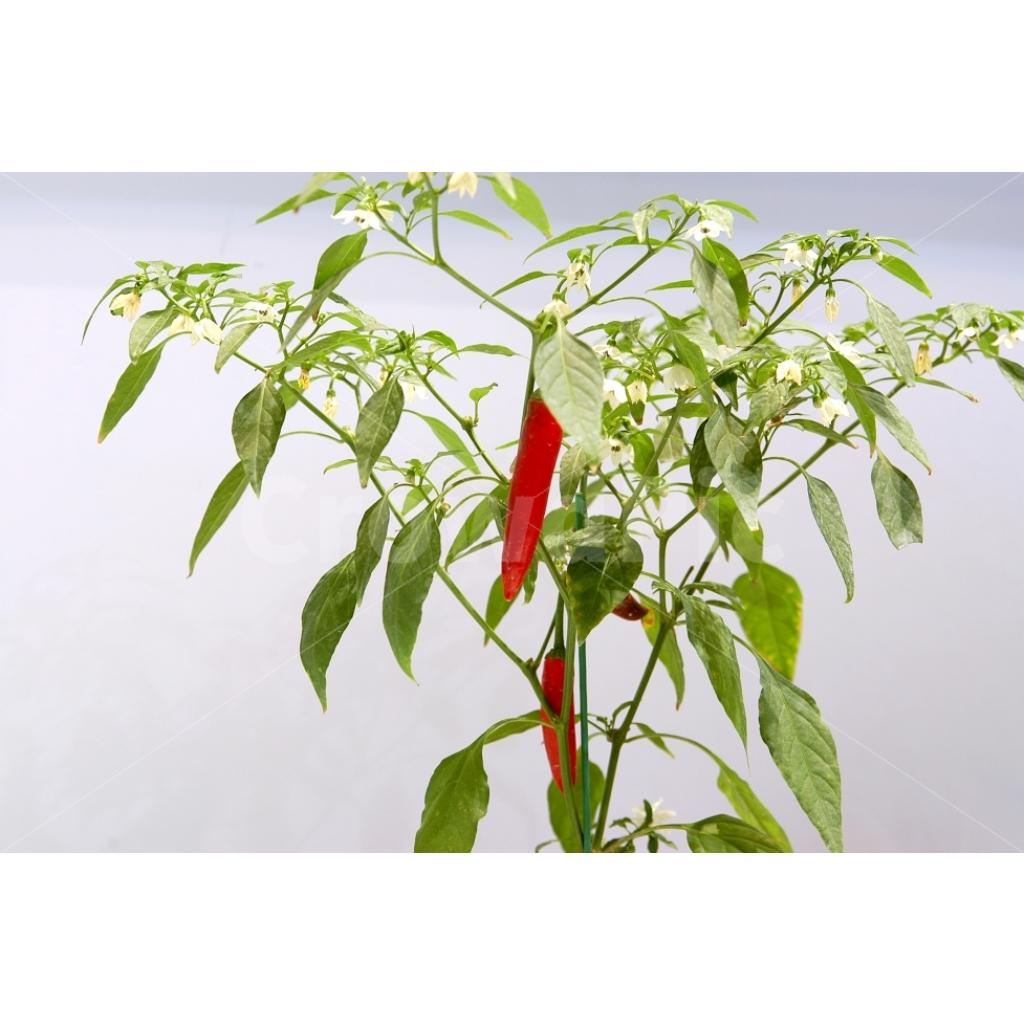chili: (502, 397, 562, 598)
